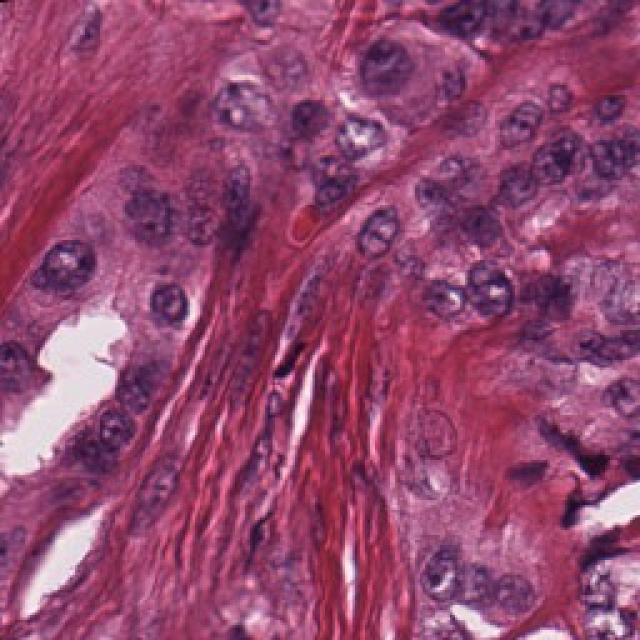abnormal: (204, 50, 292, 158), (453, 242, 556, 331), (118, 256, 210, 355), (400, 525, 491, 624), (30, 220, 121, 311), (315, 93, 393, 197), (341, 26, 427, 118), (76, 378, 155, 477), (489, 74, 561, 178), (113, 159, 189, 250), (341, 192, 416, 281), (407, 251, 477, 345), (577, 104, 640, 197), (214, 0, 289, 30)
